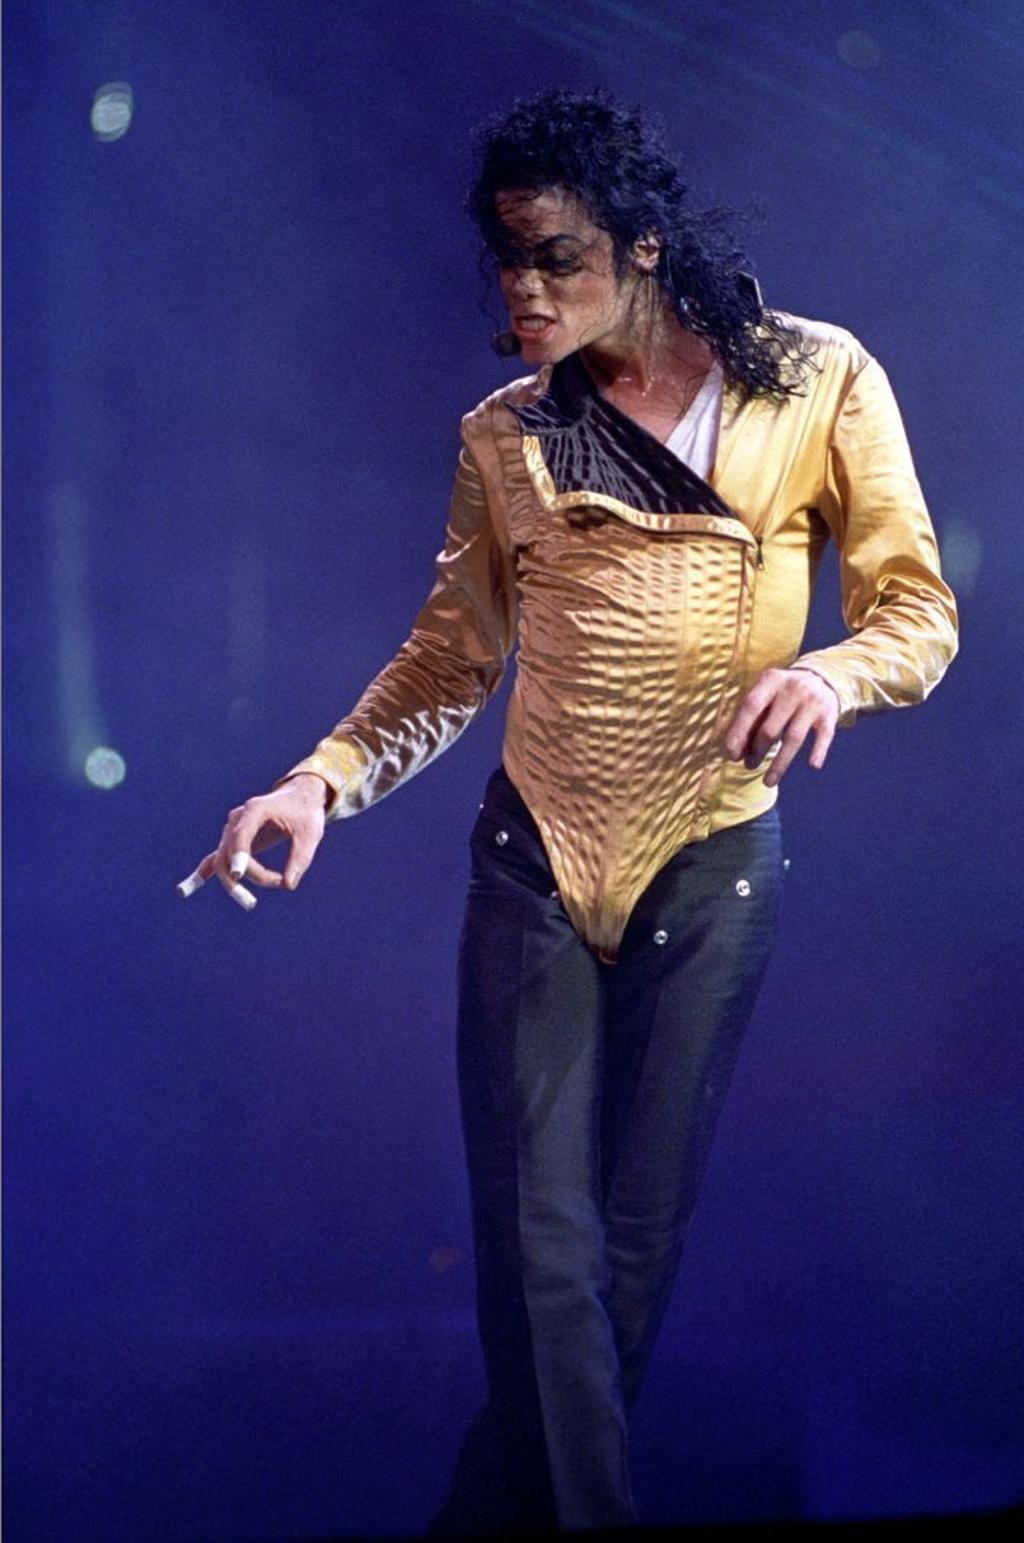face: (492, 185, 628, 366)
